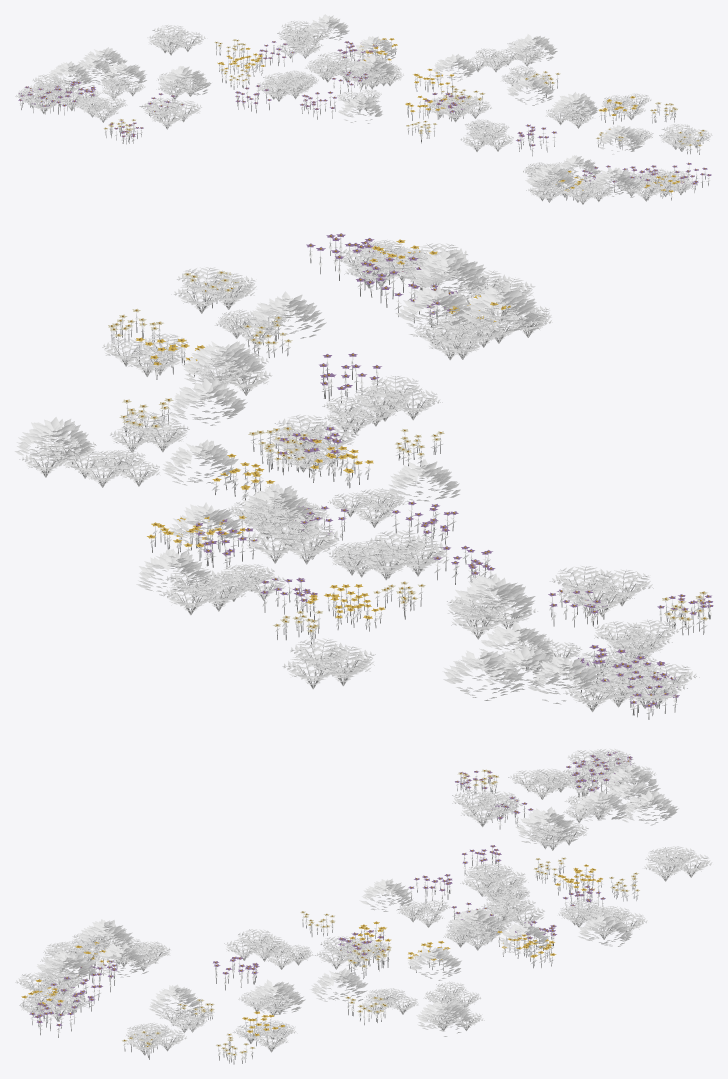
File: SM_NW_Nature_3_3_Flora.fbx
3 views of the same model, one above another, from view 1: azimuth 30°, elevation 25°; view 2: azimuth 150°, elevation 25°; view 3: azimuth 270°, elevation 25° (orthographic). The views are drawn at different scales.
Parts seen in each view (by area): view 1: SM_NW_Nature_3_3_Flora; view 2: SM_NW_Nature_3_3_Flora; view 3: SM_NW_Nature_3_3_Flora.
Boxes of the visible parts, box(x1,y1,x2,y2) form: SM_NW_Nature_3_3_Flora: box(15, 14, 712, 204); SM_NW_Nature_3_3_Flora: box(14, 233, 713, 719); SM_NW_Nature_3_3_Flora: box(15, 748, 712, 1064).
Size of the model in its own units: 2085 by 2129 by 158.
